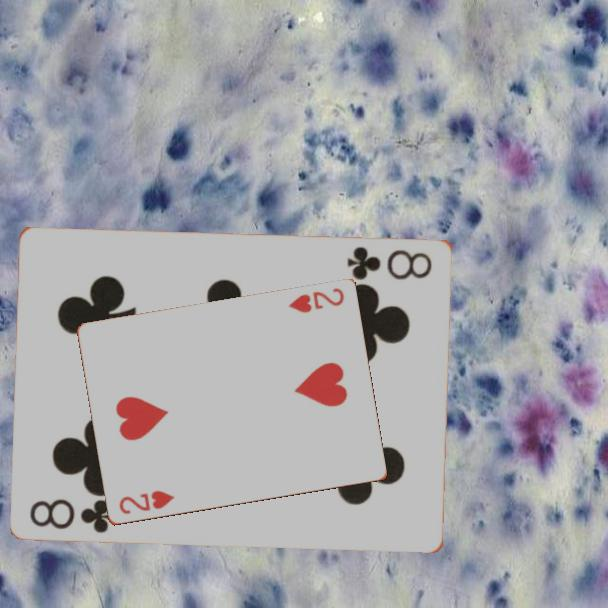c08: (344, 242, 435, 283), (27, 495, 118, 535)
h02: (284, 285, 347, 316), (115, 487, 177, 517)
